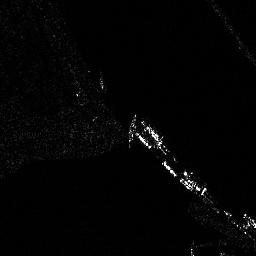ship: (140, 119, 169, 151)
